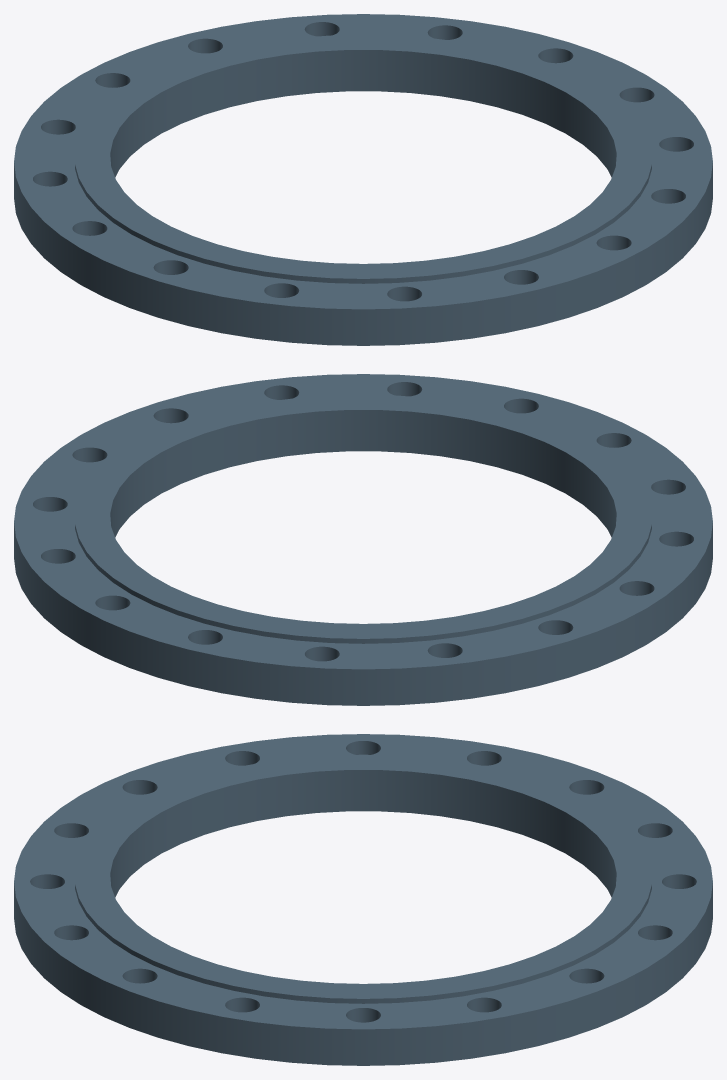
The model's file is flanec-ploskij-DN350-PN16.glb.
The picture shows the model from 3 angles, top to bottom: view 1: azimuth 30°, elevation 25°; view 2: azimuth 150°, elevation 25°; view 3: azimuth 270°, elevation 25°; orthographic projection.
Parts seen in each view (by area): view 1: Open CASCADE STEP translator 7.9 44; view 2: Open CASCADE STEP translator 7.9 44; view 3: Open CASCADE STEP translator 7.9 44.
Boxes of the visible parts, x1,y1,x2,y2 form: Open CASCADE STEP translator 7.9 44: (14,14,712,345); Open CASCADE STEP translator 7.9 44: (14,374,712,705); Open CASCADE STEP translator 7.9 44: (14,734,712,1065).
Bounding box in the file's own units: 520 × 34 × 520.
